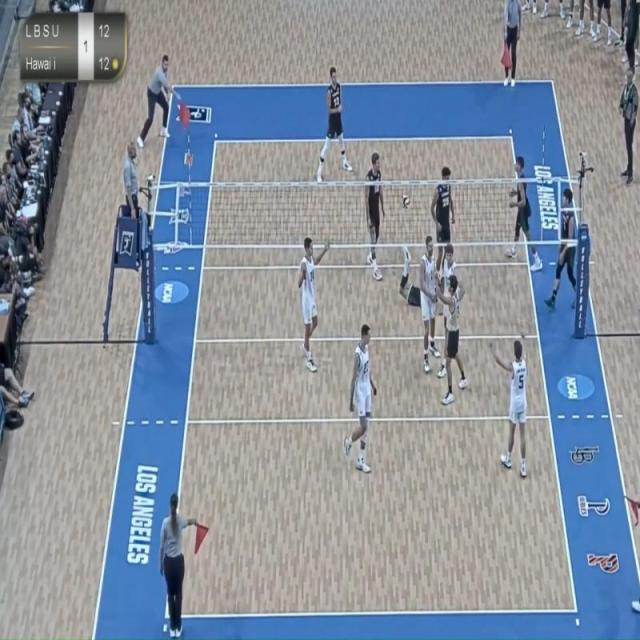volleyball: (398, 190, 412, 212)
